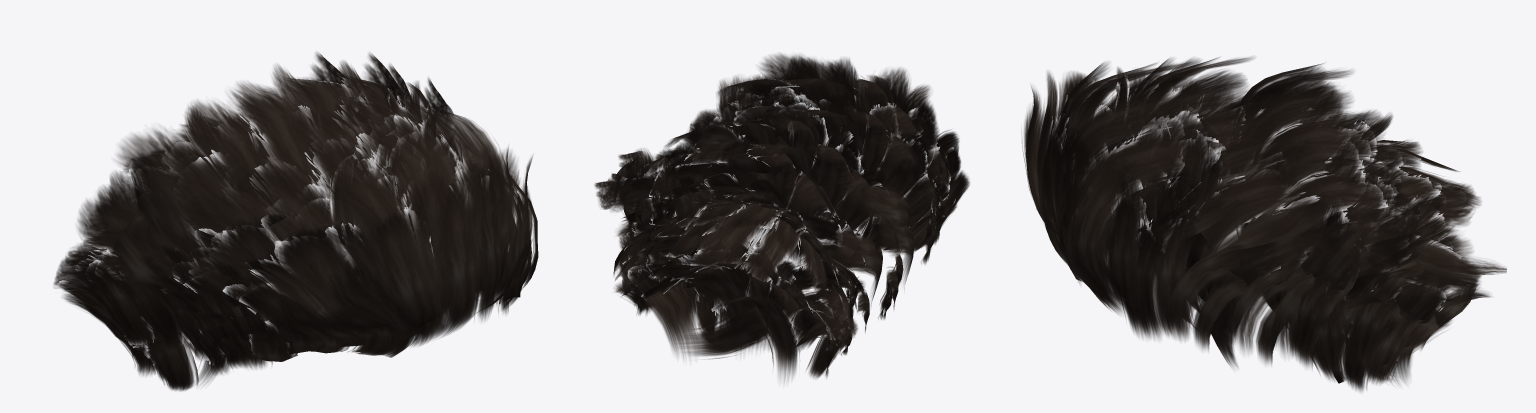
File: Triangle_Straight_SpikyCut.glb
The picture shows the model from 3 angles, left to right: view 1: azimuth 30°, elevation 25°; view 2: azimuth 150°, elevation 25°; view 3: azimuth 270°, elevation 25°; orthographic projection. The views are drawn at different scales.
Parts seen in each view (by area): view 1: SPIKY CUT; view 2: SPIKY CUT; view 3: SPIKY CUT.
Boxes of the visible parts, <box> form: SPIKY CUT: <box>54,52,538,391</box>; SPIKY CUT: <box>594,53,969,381</box>; SPIKY CUT: <box>1022,57,1506,391</box>.
Bounding box in the file's own units: 0.2325 × 0.2016 × 0.2616.
Materials: 1 (1 with a texture image).
